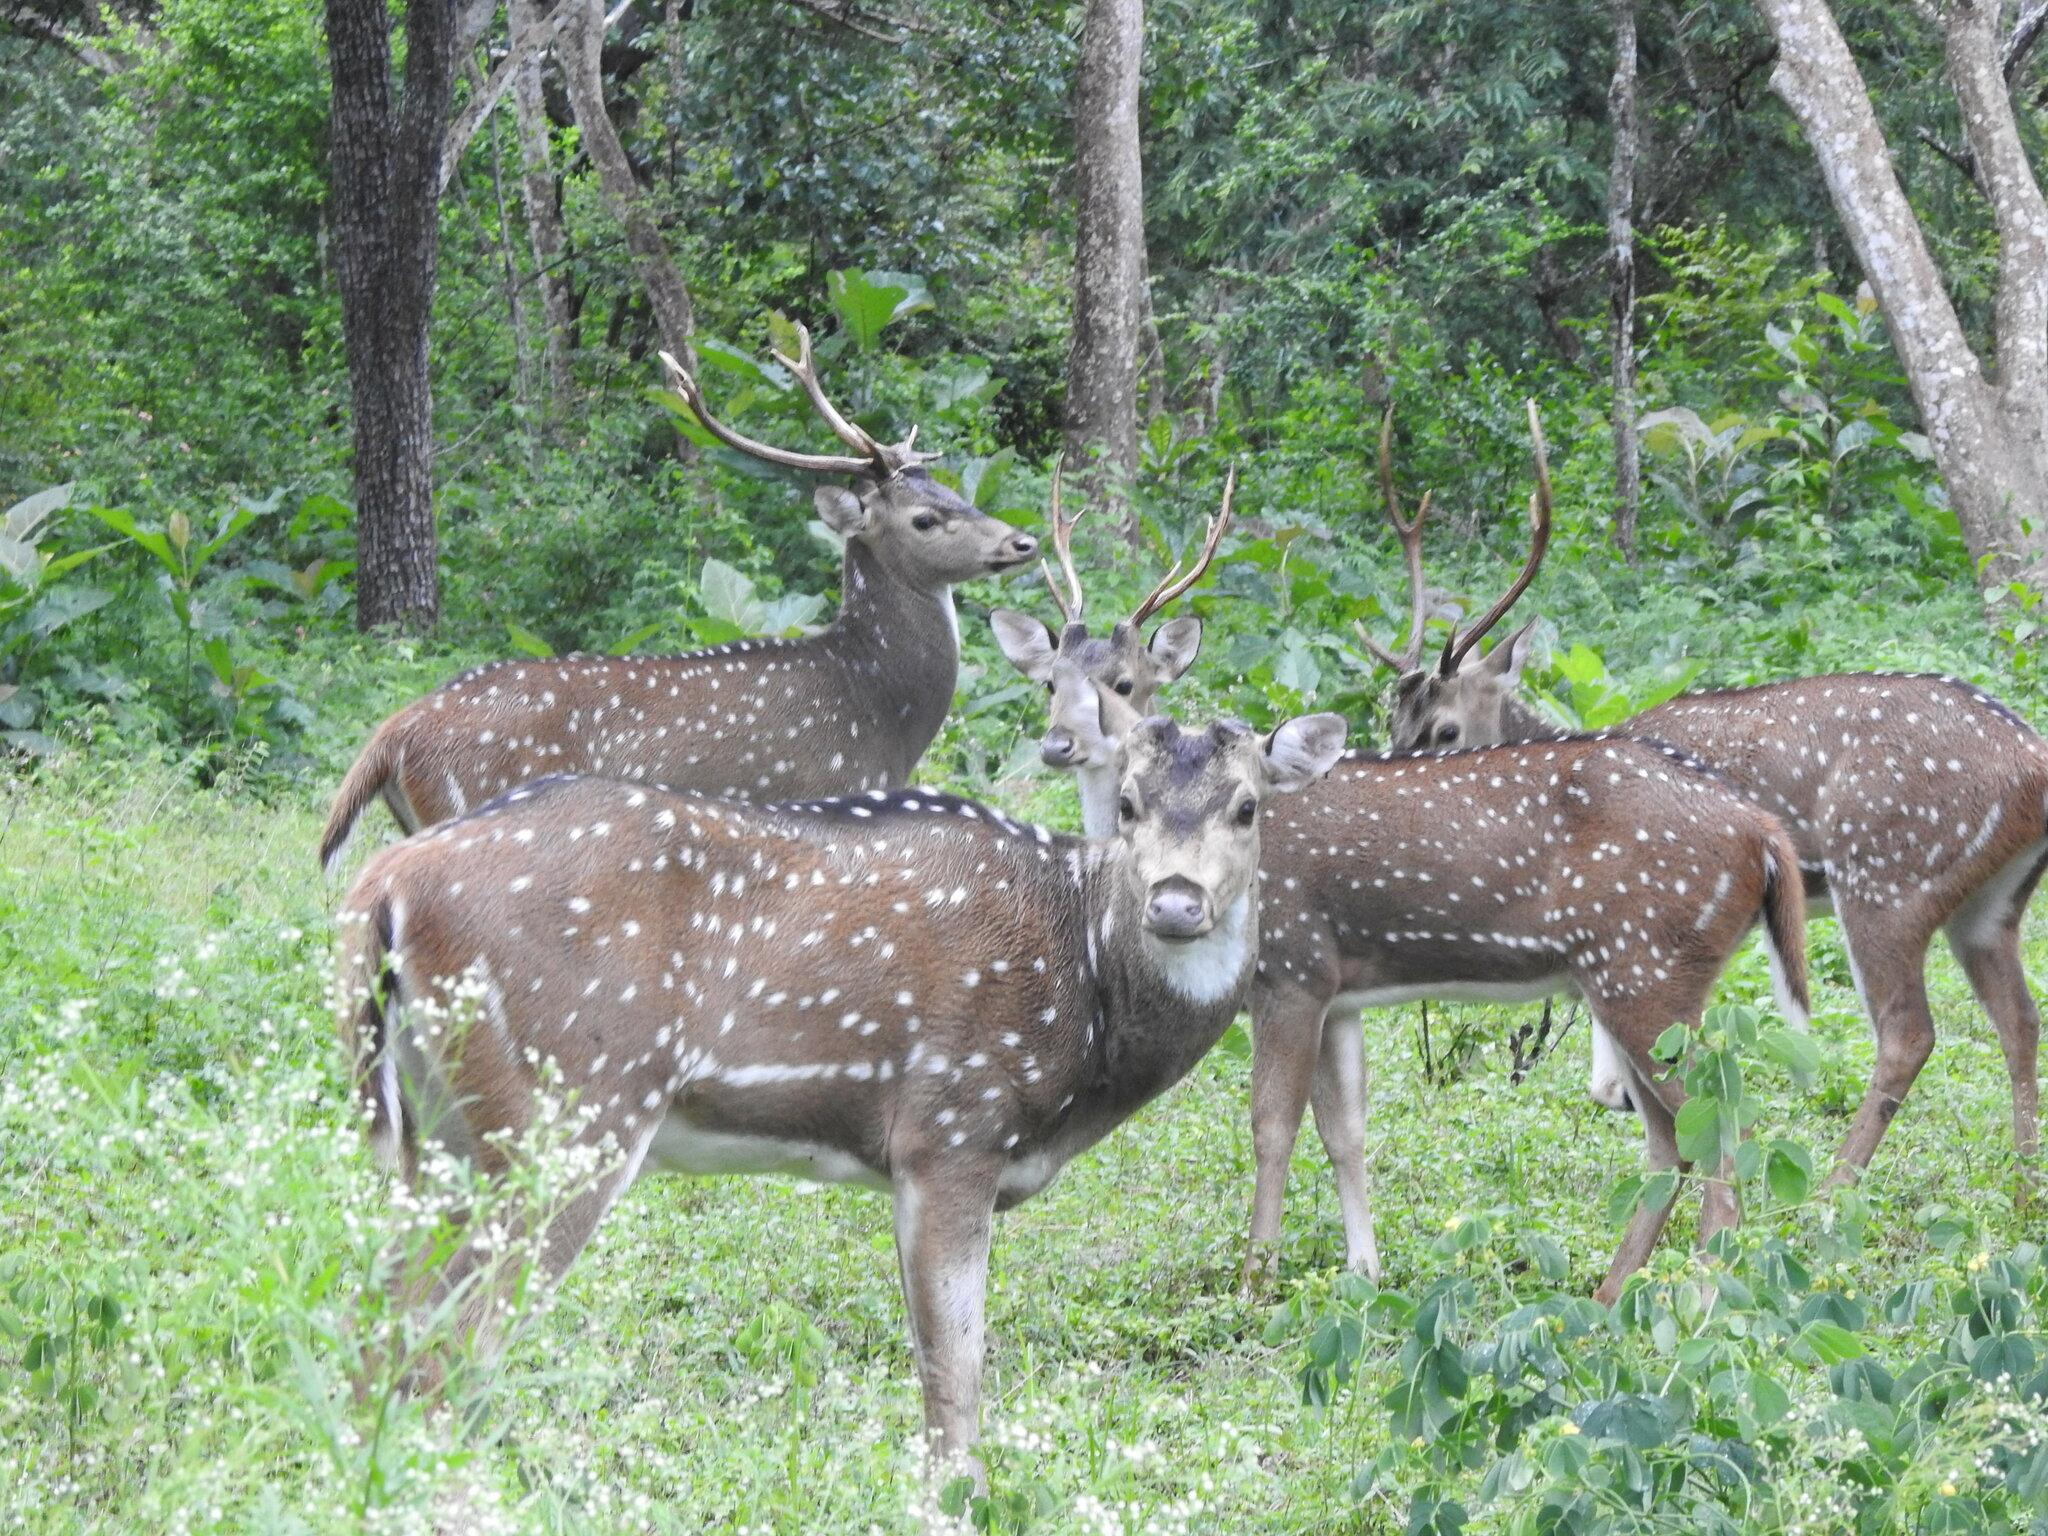Deer: (340, 684, 1347, 1462), (1379, 399, 2046, 1175), (319, 328, 1037, 866), (1243, 736, 1808, 1283)
